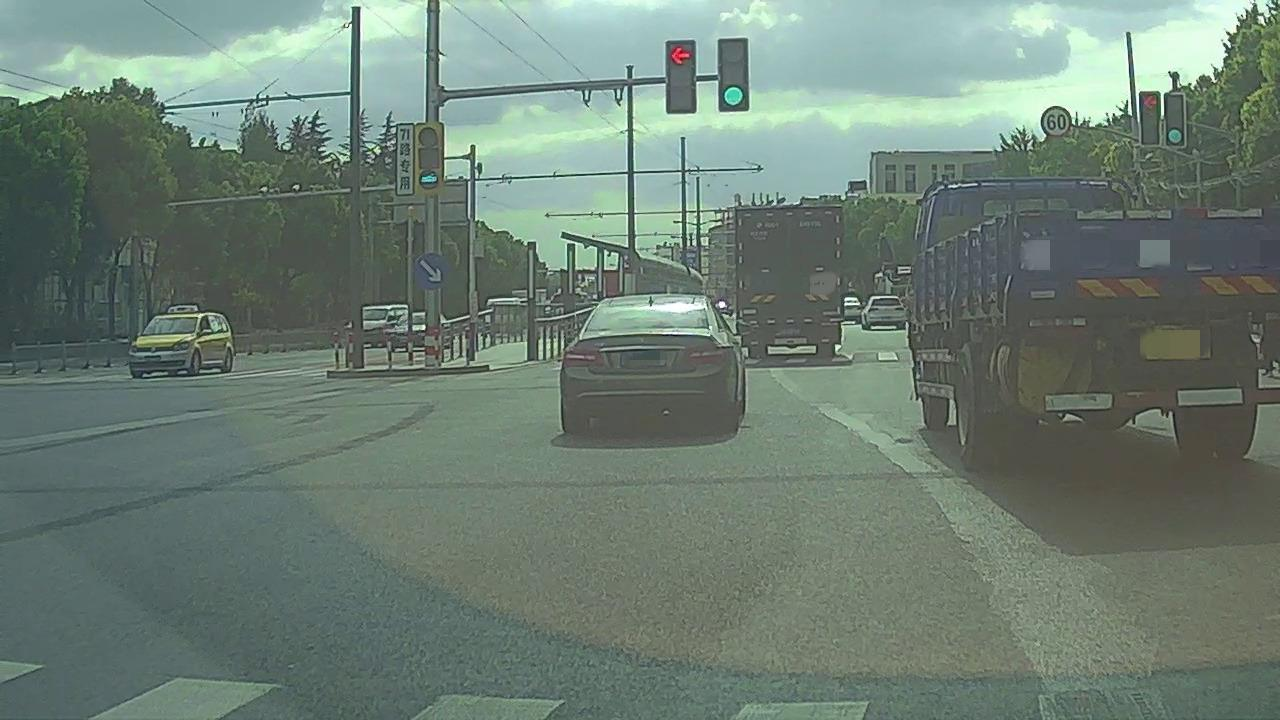traffic_light: (717, 38, 748, 111), (666, 41, 693, 112), (1165, 95, 1185, 146), (1140, 94, 1159, 145)
